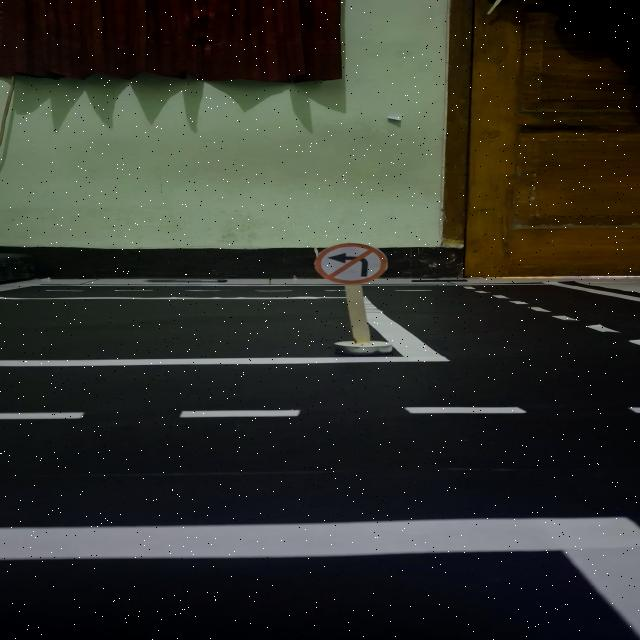Dilarang Belok Kiri: (314, 243, 388, 284)
